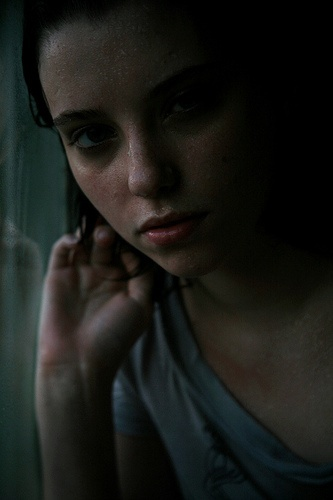head: (40, 1, 256, 289)
person: (21, 1, 333, 500)
